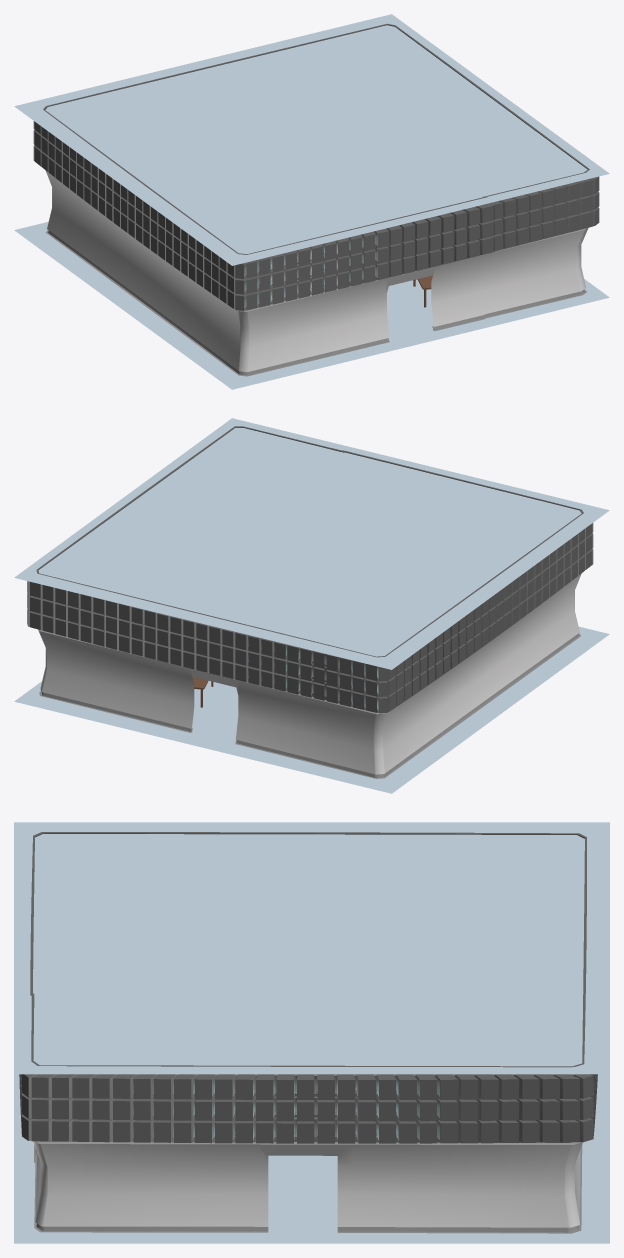
Rendered from m_SmallRoom_3_Conference.fbx.
3 renders of one model, top to bottom at view 1: azimuth 30°, elevation 25°; view 2: azimuth 150°, elevation 25°; view 3: azimuth 270°, elevation 25°, orthographic. The views are drawn at different scales.
Visible parts, largest first — view 1: m_room; view 2: m_room; view 3: m_room.
Boxes of the visible parts, box(x1,y1,x2,y2) form: m_room: box(14, 14, 609, 389); m_room: box(14, 418, 609, 793); m_room: box(14, 822, 609, 1243).
Bounding box in the file's own units: 1515 × 479 × 1515.
